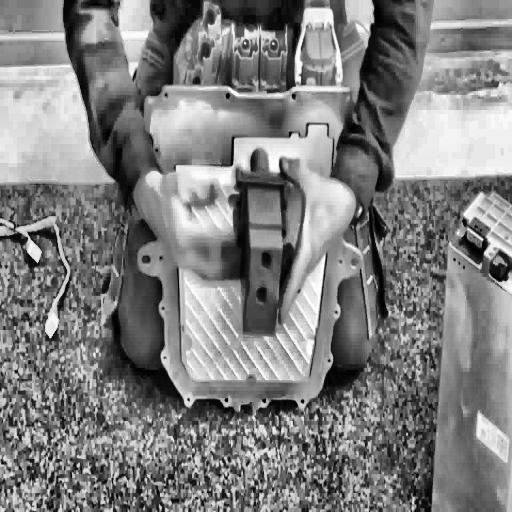bms_unit: (136, 3, 363, 425)
connector: (232, 146, 297, 350)
